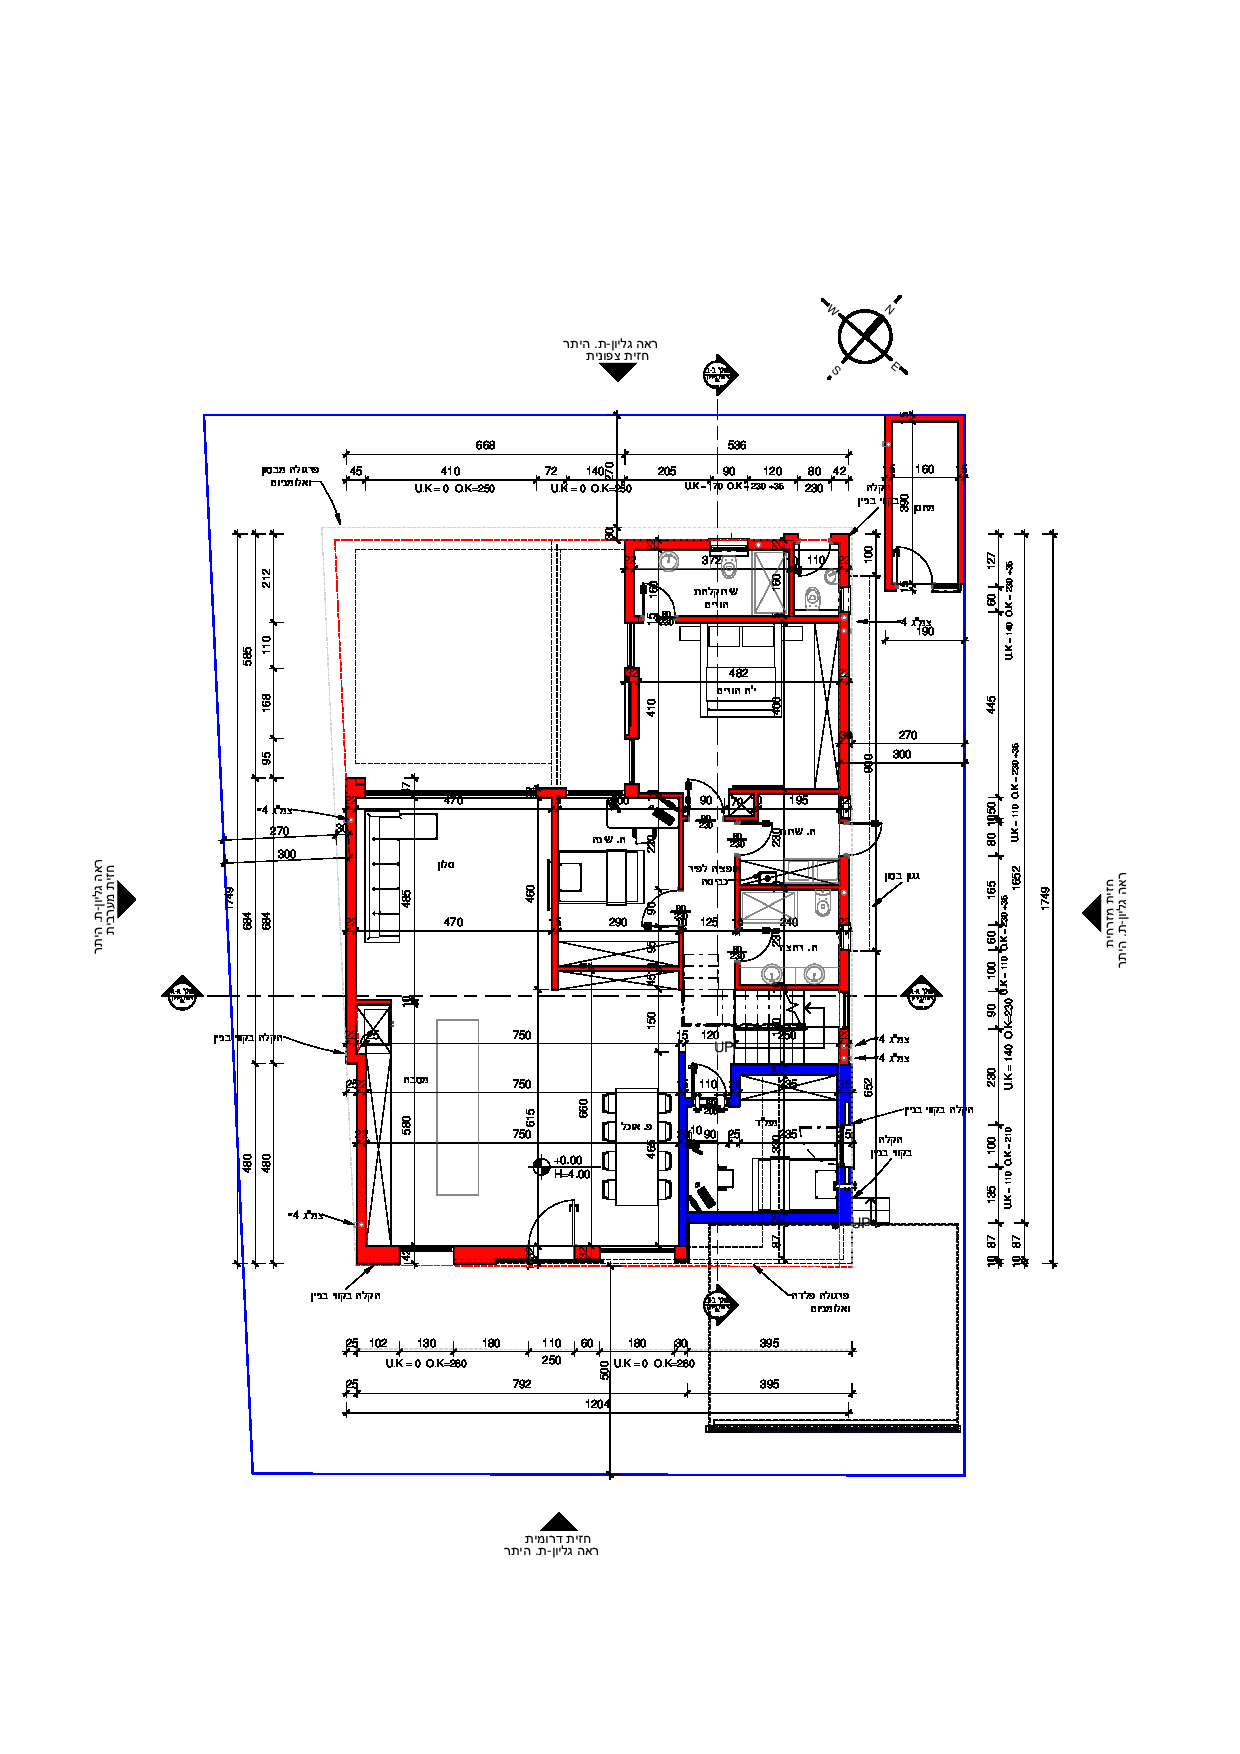door: (526, 1198, 584, 1240), (856, 815, 905, 864), (684, 756, 730, 808), (892, 523, 938, 576)
wall: (366, 786, 531, 794)
